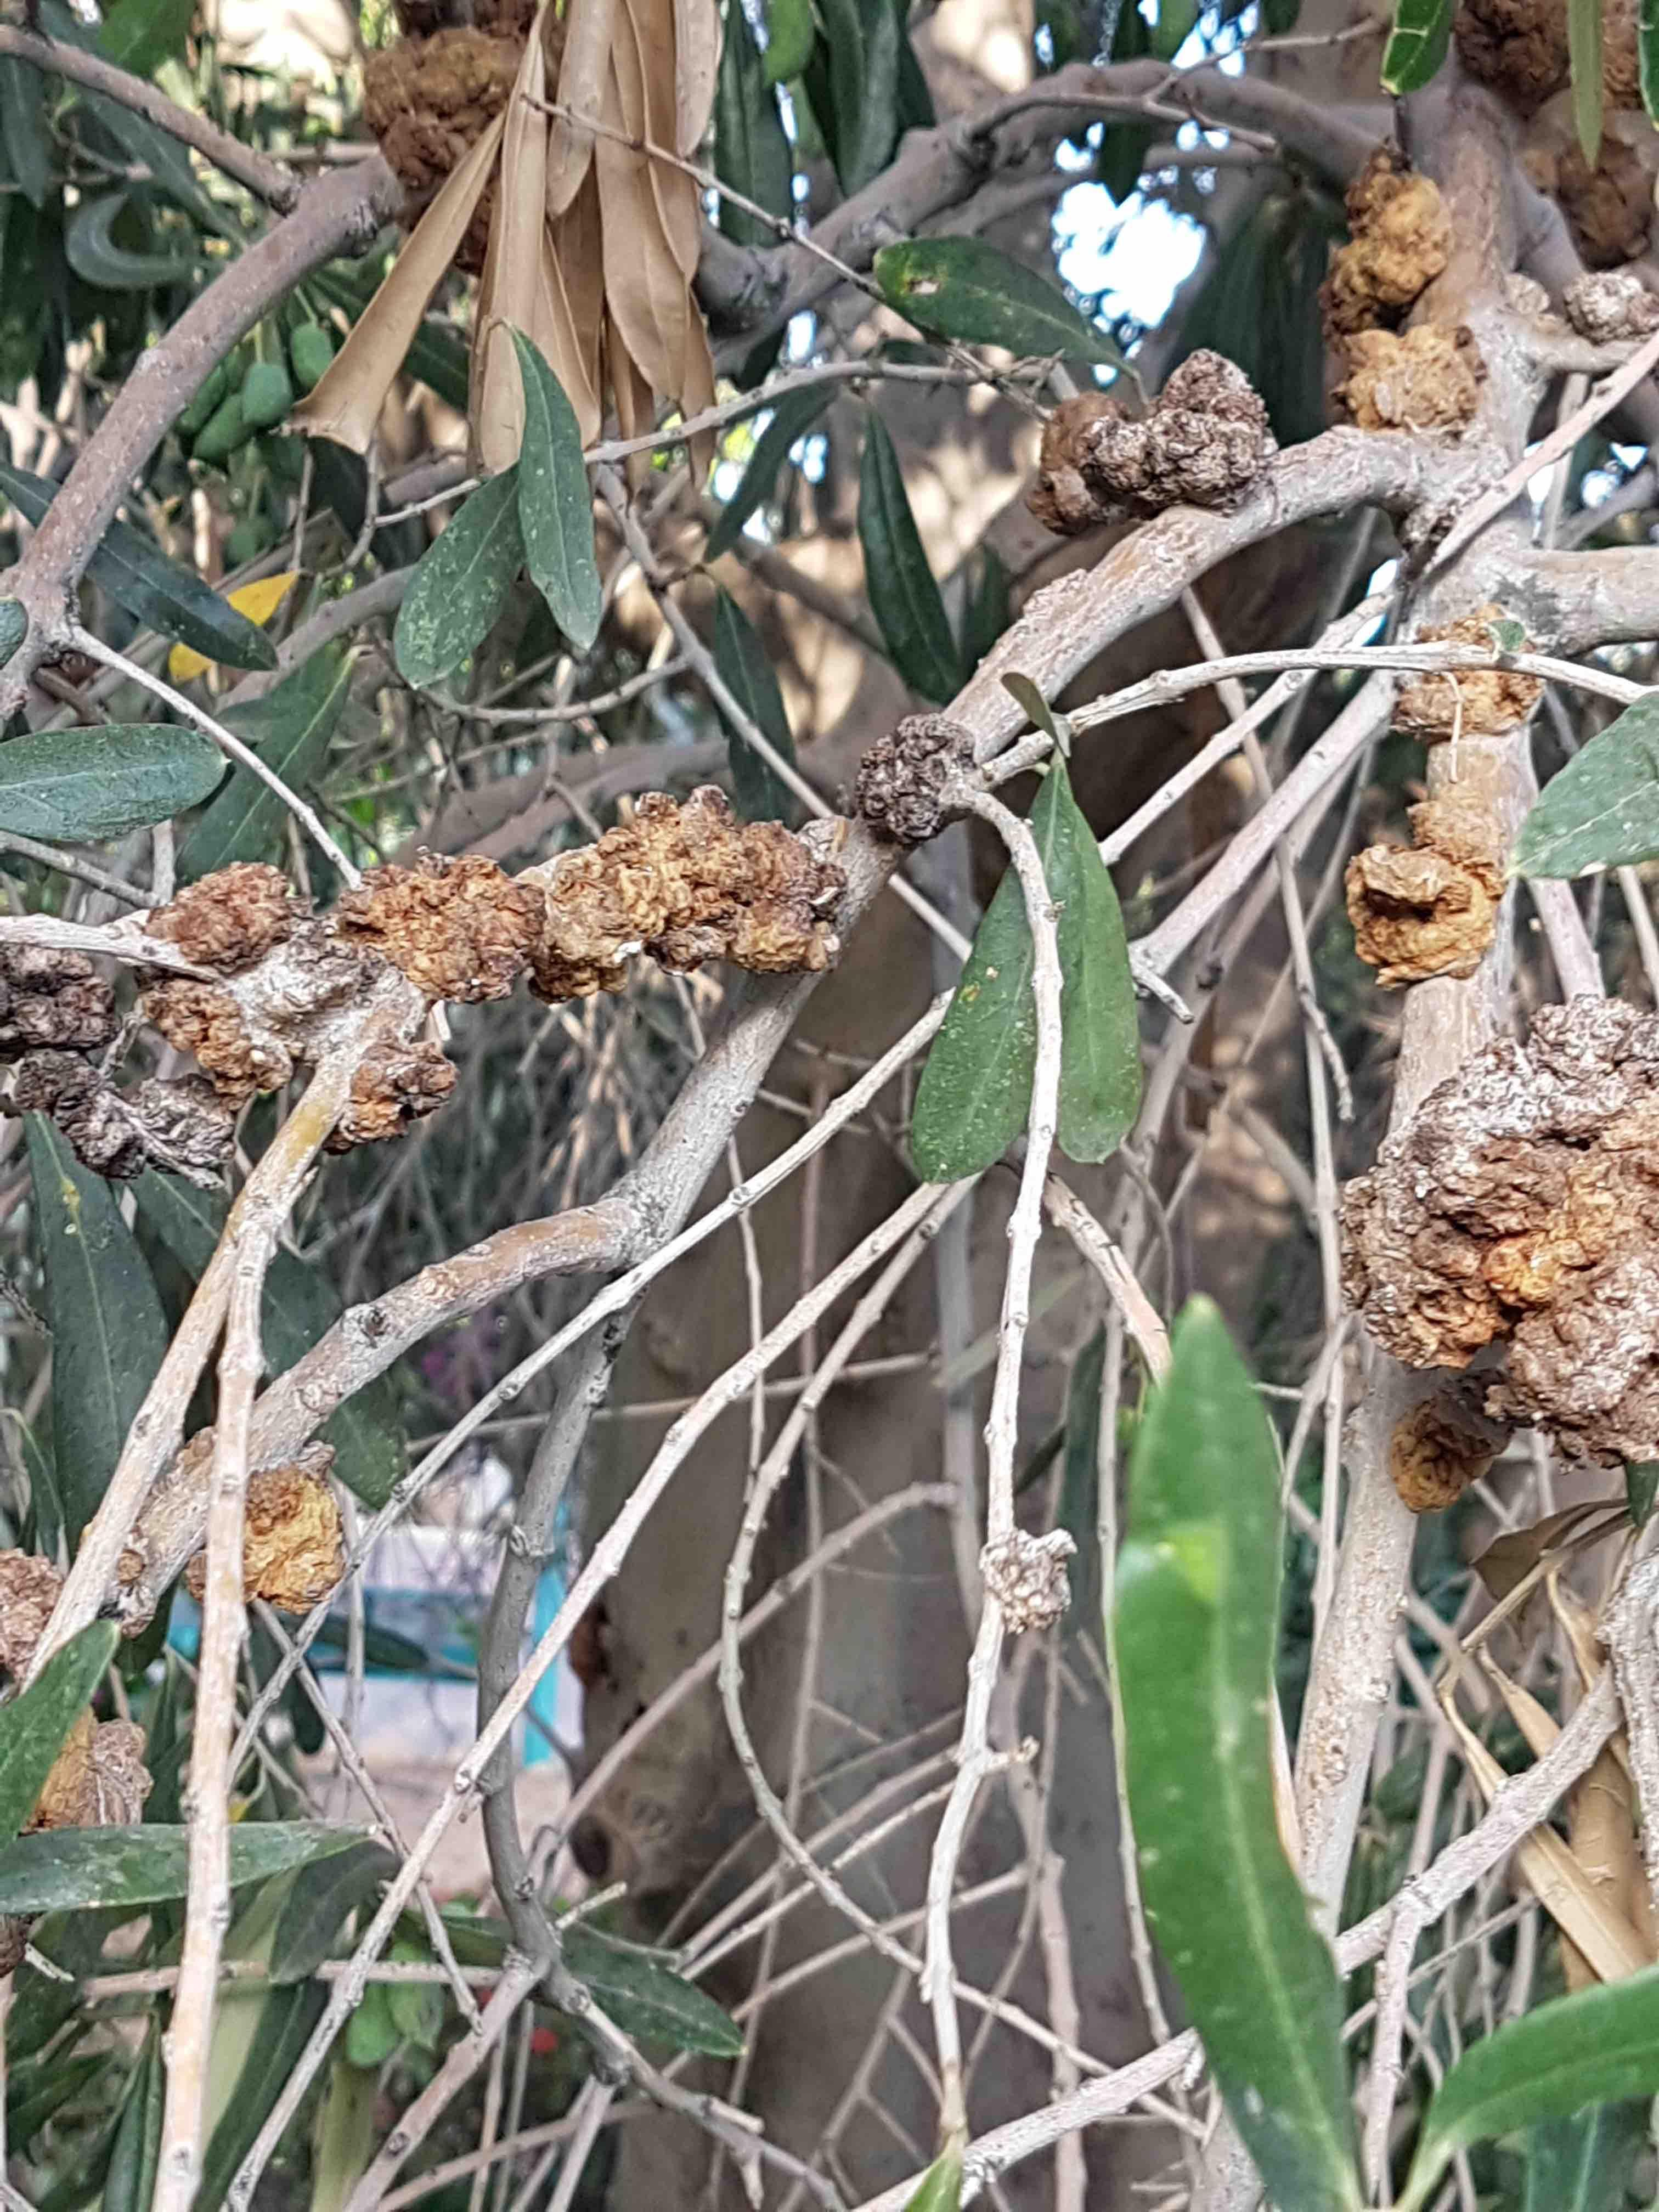Tuberculosis: (59, 779, 856, 1153), (1347, 988, 1659, 1519), (1312, 146, 1506, 442), (1026, 347, 1286, 545), (1337, 780, 1518, 993), (183, 1460, 357, 1616), (847, 702, 985, 843), (969, 1515, 1086, 1646), (1556, 265, 1659, 341)
